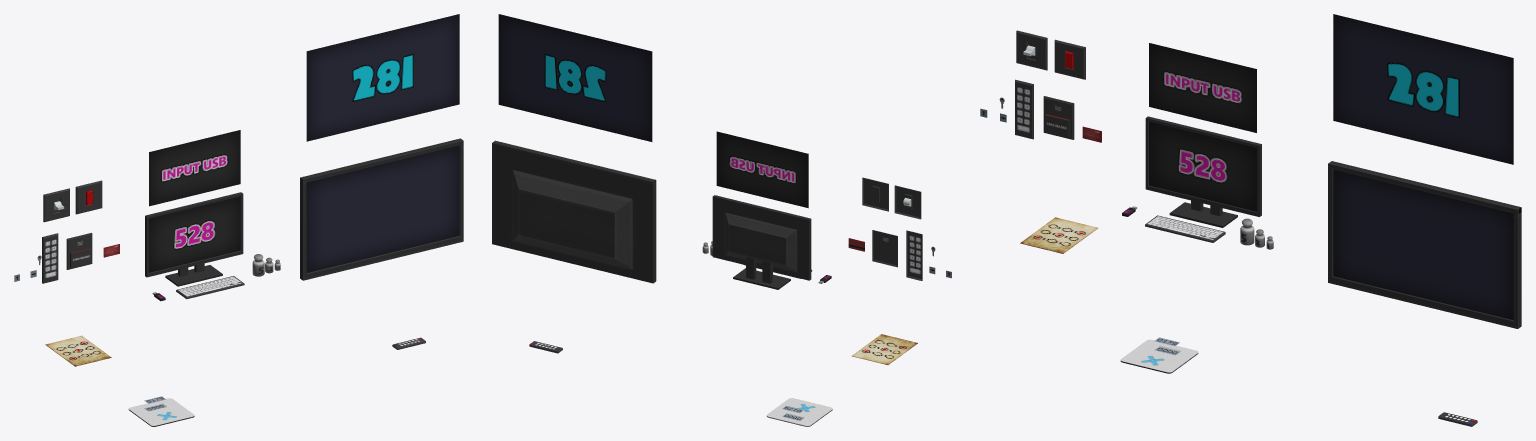
The model's file is Furniture_E.FBX.
3 renders of one model, left to right at view 1: azimuth 30°, elevation 25°; view 2: azimuth 150°, elevation 25°; view 3: azimuth 330°, elevation 25°, orthographic. The views are drawn at different scales.
Parts seen in each view (by area): view 1: TV_Screen, TV_Screen001, Monitor_Screen, Monitor_Screen001, TV, Monitor, Paper, Libra, Card_Reader, Lock, Keyboard, Switch (+1 smaller); view 2: TV, TV_Screen001, Monitor, Monitor_Screen001, Paper, Libra, Card_Reader, Lock, Switch001, Switch; view 3: TV_Screen001, TV_Screen, Monitor_Screen, Monitor_Screen001, TV, Monitor, Paper, Libra, Card_Reader, Lock, Keyboard, Switch (+1 smaller).
Part boxes in pixels (x1,y1,x2,y2): TV_Screen: [306, 145, 459, 272]; TV_Screen001: [306, 14, 459, 141]; Monitor_Screen: [149, 196, 240, 272]; Monitor_Screen001: [149, 130, 240, 206]; TV: [300, 138, 463, 280]; Monitor: [145, 192, 243, 286]; Paper: [45, 335, 111, 366]; Libra: [128, 398, 194, 426]; Card_Reader: [66, 233, 92, 269]; Lock: [42, 233, 58, 283]; Keyboard: [176, 276, 244, 298]; Switch: [43, 188, 69, 222]; TV: [492, 140, 656, 283]; TV_Screen001: [498, 14, 652, 141]; Monitor: [712, 195, 811, 289]; Monitor_Screen001: [716, 131, 808, 208]; Paper: [852, 334, 917, 364]; Libra: [766, 398, 832, 426]; Card_Reader: [872, 230, 897, 267]; Lock: [906, 230, 922, 280]; Switch001: [862, 177, 888, 211]; Switch: [894, 185, 921, 219]; TV_Screen001: [1333, 14, 1513, 164]; TV_Screen: [1333, 169, 1513, 319]; Monitor_Screen: [1149, 121, 1256, 211]; Monitor_Screen001: [1149, 43, 1256, 132]; TV: [1328, 161, 1521, 328]; Monitor: [1145, 116, 1261, 227]; Paper: [1020, 217, 1097, 253]; Libra: [1120, 339, 1198, 373]; Card_Reader: [1043, 96, 1074, 139]; Lock: [1015, 79, 1033, 139]; Keyboard: [1145, 215, 1225, 242]; Switch: [1016, 30, 1047, 70].
Bounding box in the file's own units: 2.6 × 1.79 × 0.3281.
